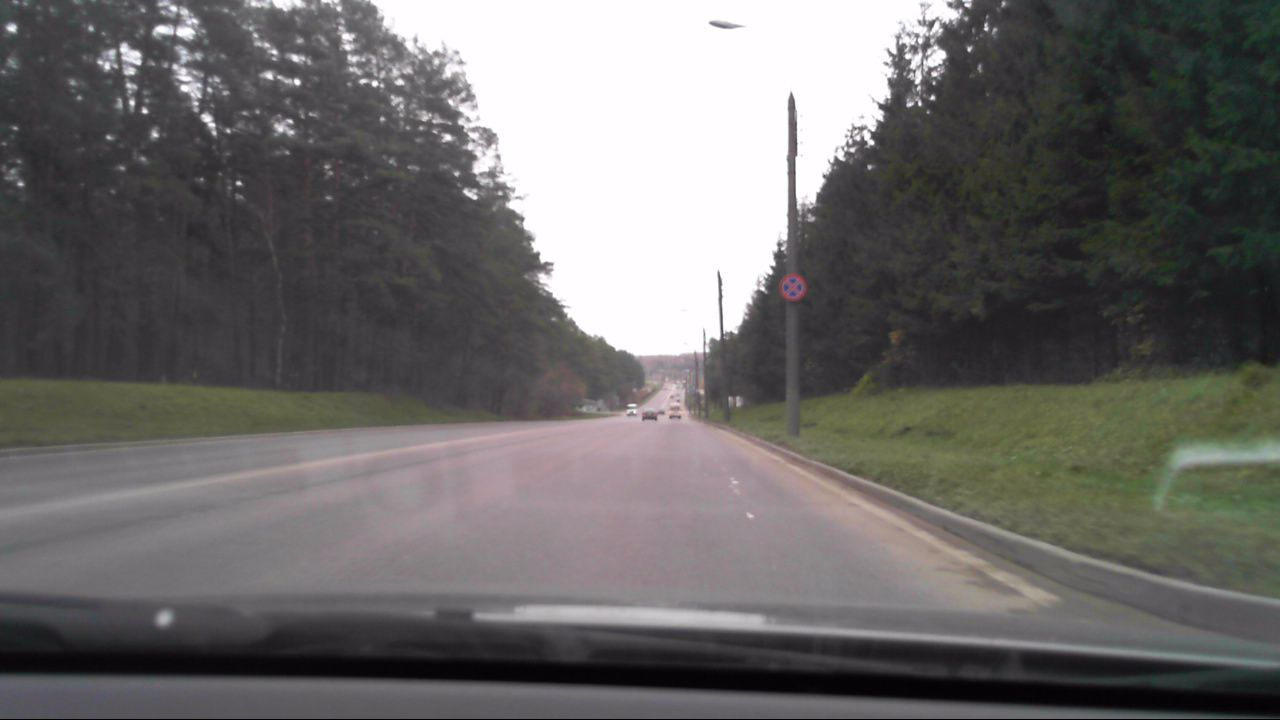No Parking: (777, 272, 806, 303)
